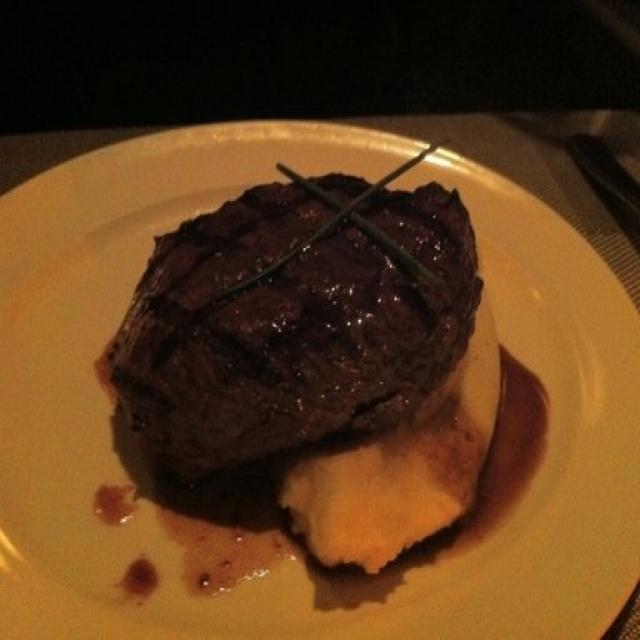Steak: (103, 128, 539, 520)
